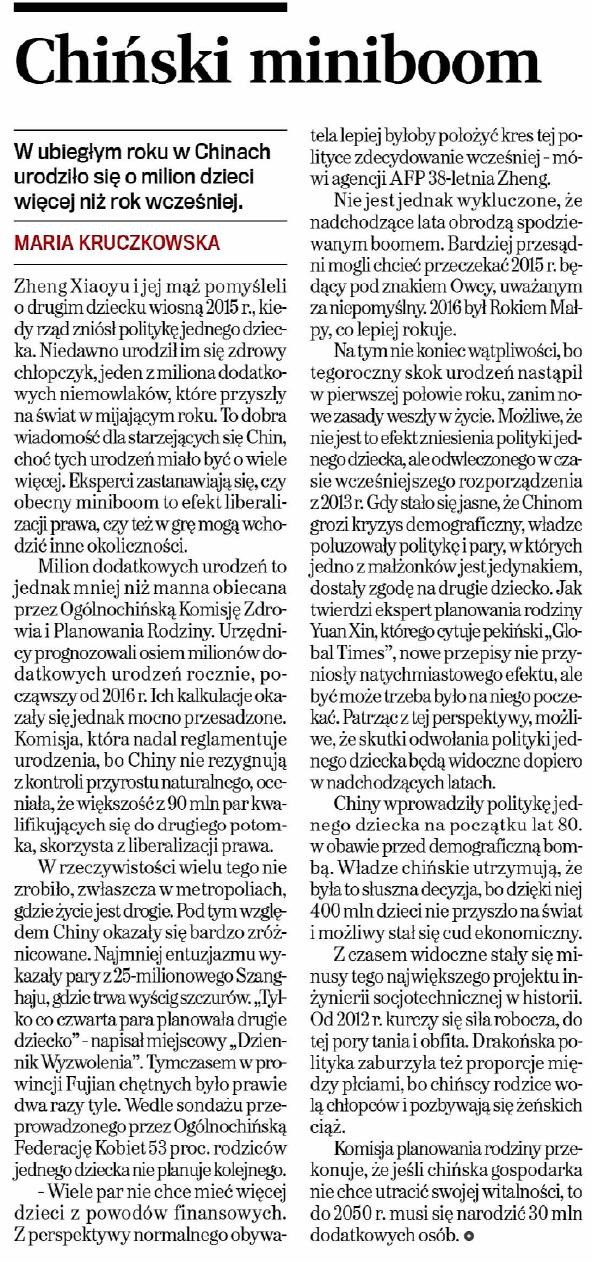author: (9, 18, 573, 102), (8, 228, 236, 260)
body: (303, 116, 592, 1249), (6, 273, 300, 1255)
lead: (7, 136, 278, 215)
